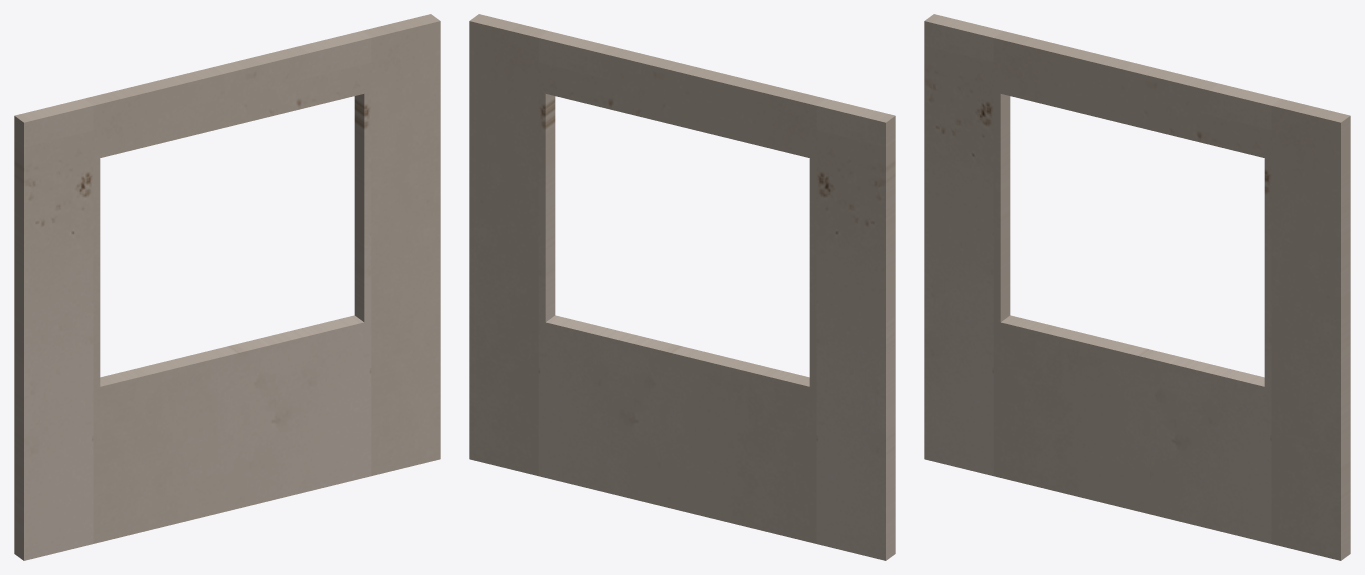
The model's file is windowWall.fbx.
3 views of the same model, side by side, from view 1: azimuth 30°, elevation 25°; view 2: azimuth 150°, elevation 25°; view 3: azimuth 330°, elevation 25° (orthographic).
Visible parts, largest first — view 1: windowWall; view 2: windowWall; view 3: windowWall.
Boxes of the visible parts, x1,y1,x2,y2 form: windowWall: (14,14,440,560); windowWall: (469,14,895,560); windowWall: (924,14,1350,560).
Size of the model in its own units: 3 by 3.02 by 0.1202.
